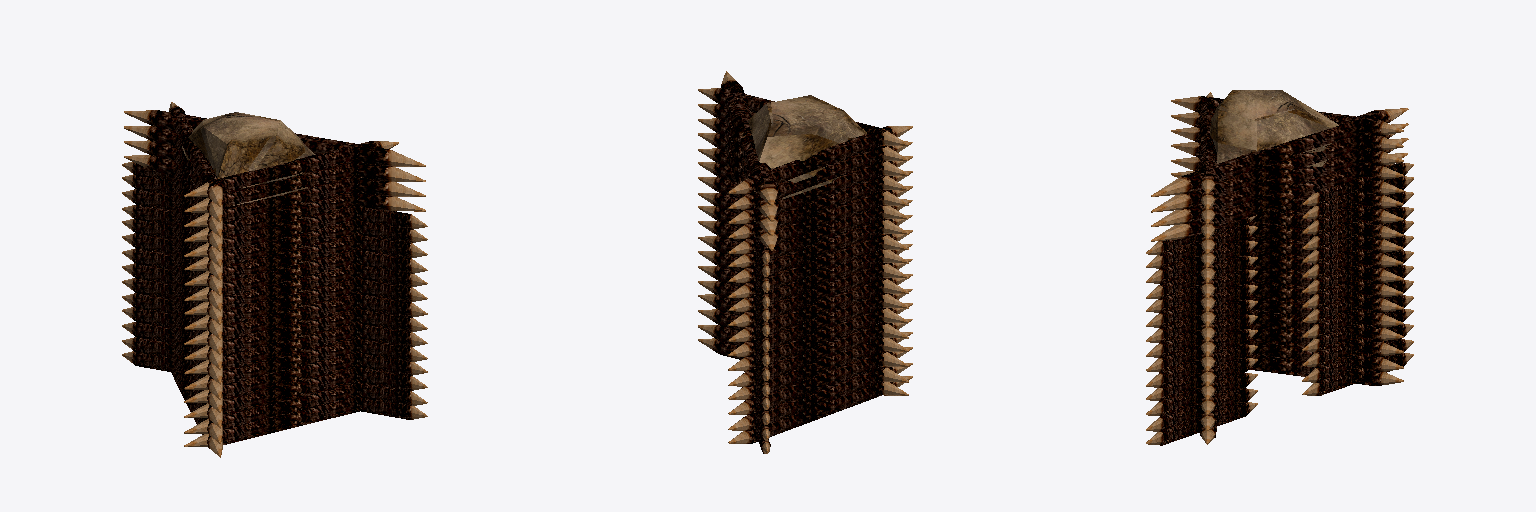
3 renders of one model, left to right at view 1: azimuth 30°, elevation 25°; view 2: azimuth 150°, elevation 25°; view 3: azimuth 270°, elevation 25°, orthographic.
Parts seen in each view (by area): view 1: Plane, Icosphere; view 2: Plane, Icosphere; view 3: Plane, Icosphere.
Boxes of the visible parts, <box> form: Plane: <box>122,102,427,457</box>; Icosphere: <box>182,112,315,205</box>; Plane: <box>698,71,912,453</box>; Icosphere: <box>748,95,866,198</box>; Plane: <box>1146,92,1413,445</box>; Icosphere: <box>1210,90,1338,166</box>.
Bounding box in the file's own units: 0.196 × 0.2561 × 0.2142.
2 materials, 2 textured.